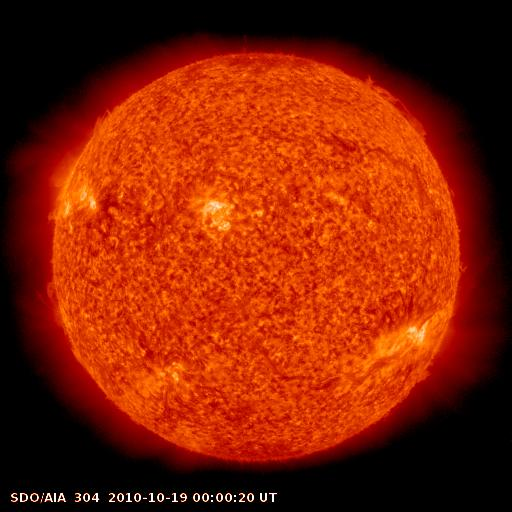prominence: (365, 72, 430, 145), (31, 274, 80, 346), (86, 99, 124, 135), (408, 362, 444, 398)
